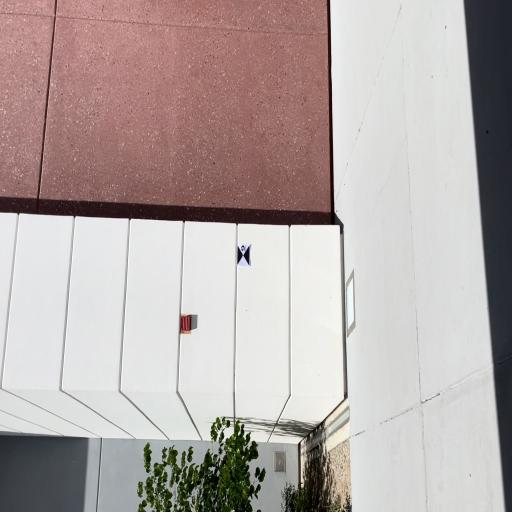target9: (237, 245, 250, 266)
